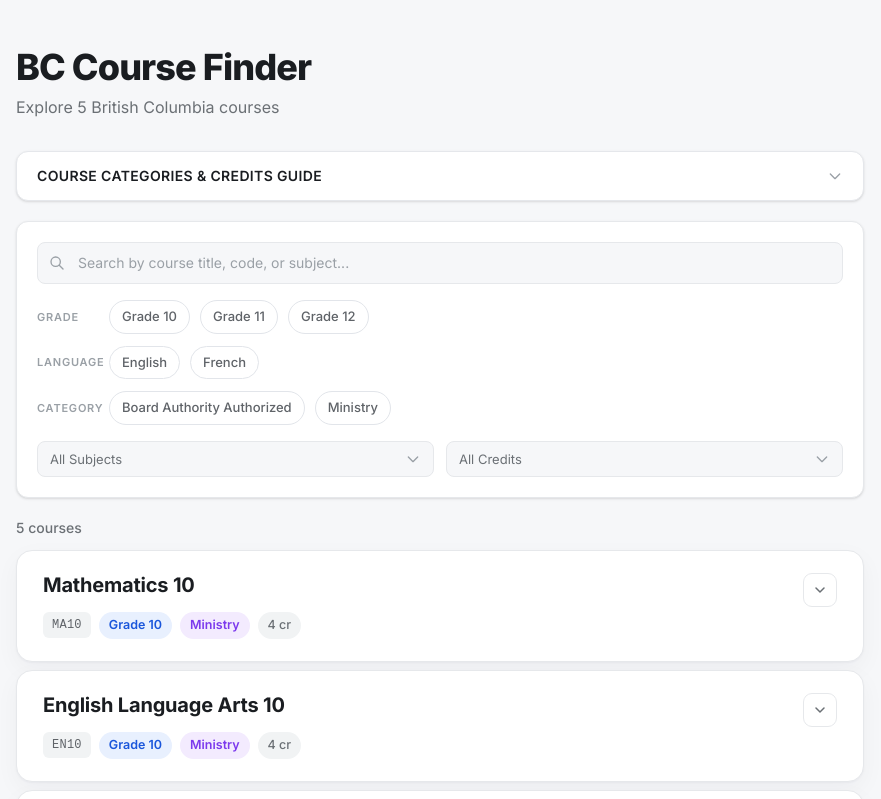
Test case: Home page — expand (courses-only, no detail fetch) › shows published description when non-empty
Expected: the text "Mathematics 10" is shown, [43,573,195,597]
Click the button named "Toggle details" in the row of "English Language Arts 10": x=820, y=710 [803,693,837,727]
(page scrolled)
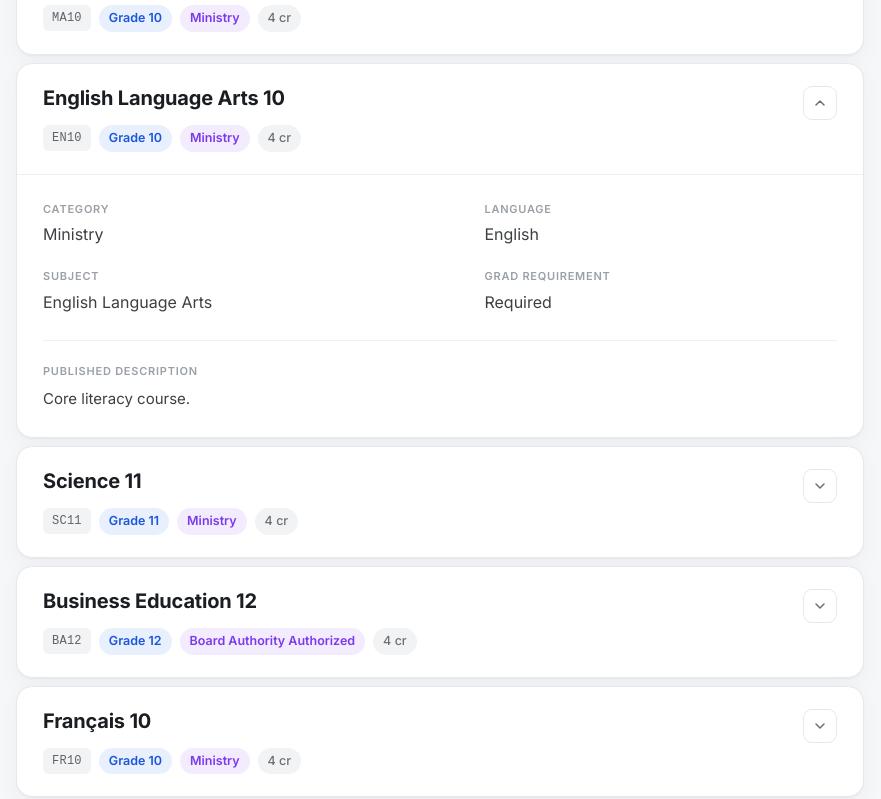
Result: the text "Published description" is shown at [43,364,198,378]
Result: the text "Core literacy course." is shown at [43,389,190,408]
